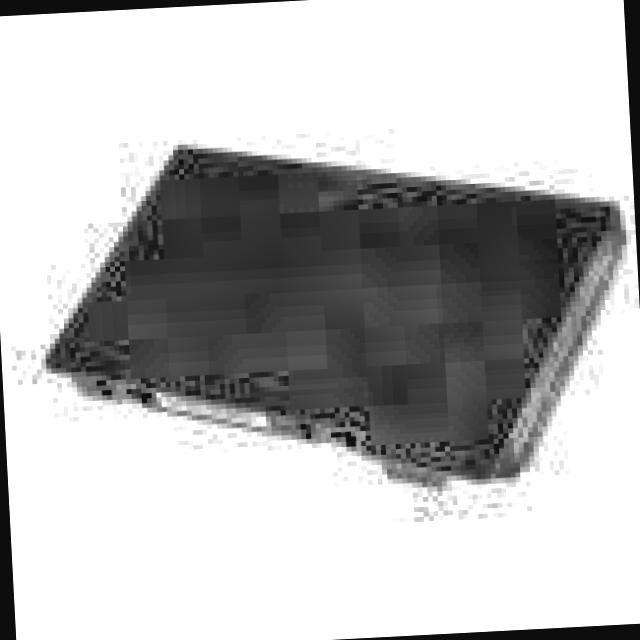Battery: (30, 117, 634, 507)
